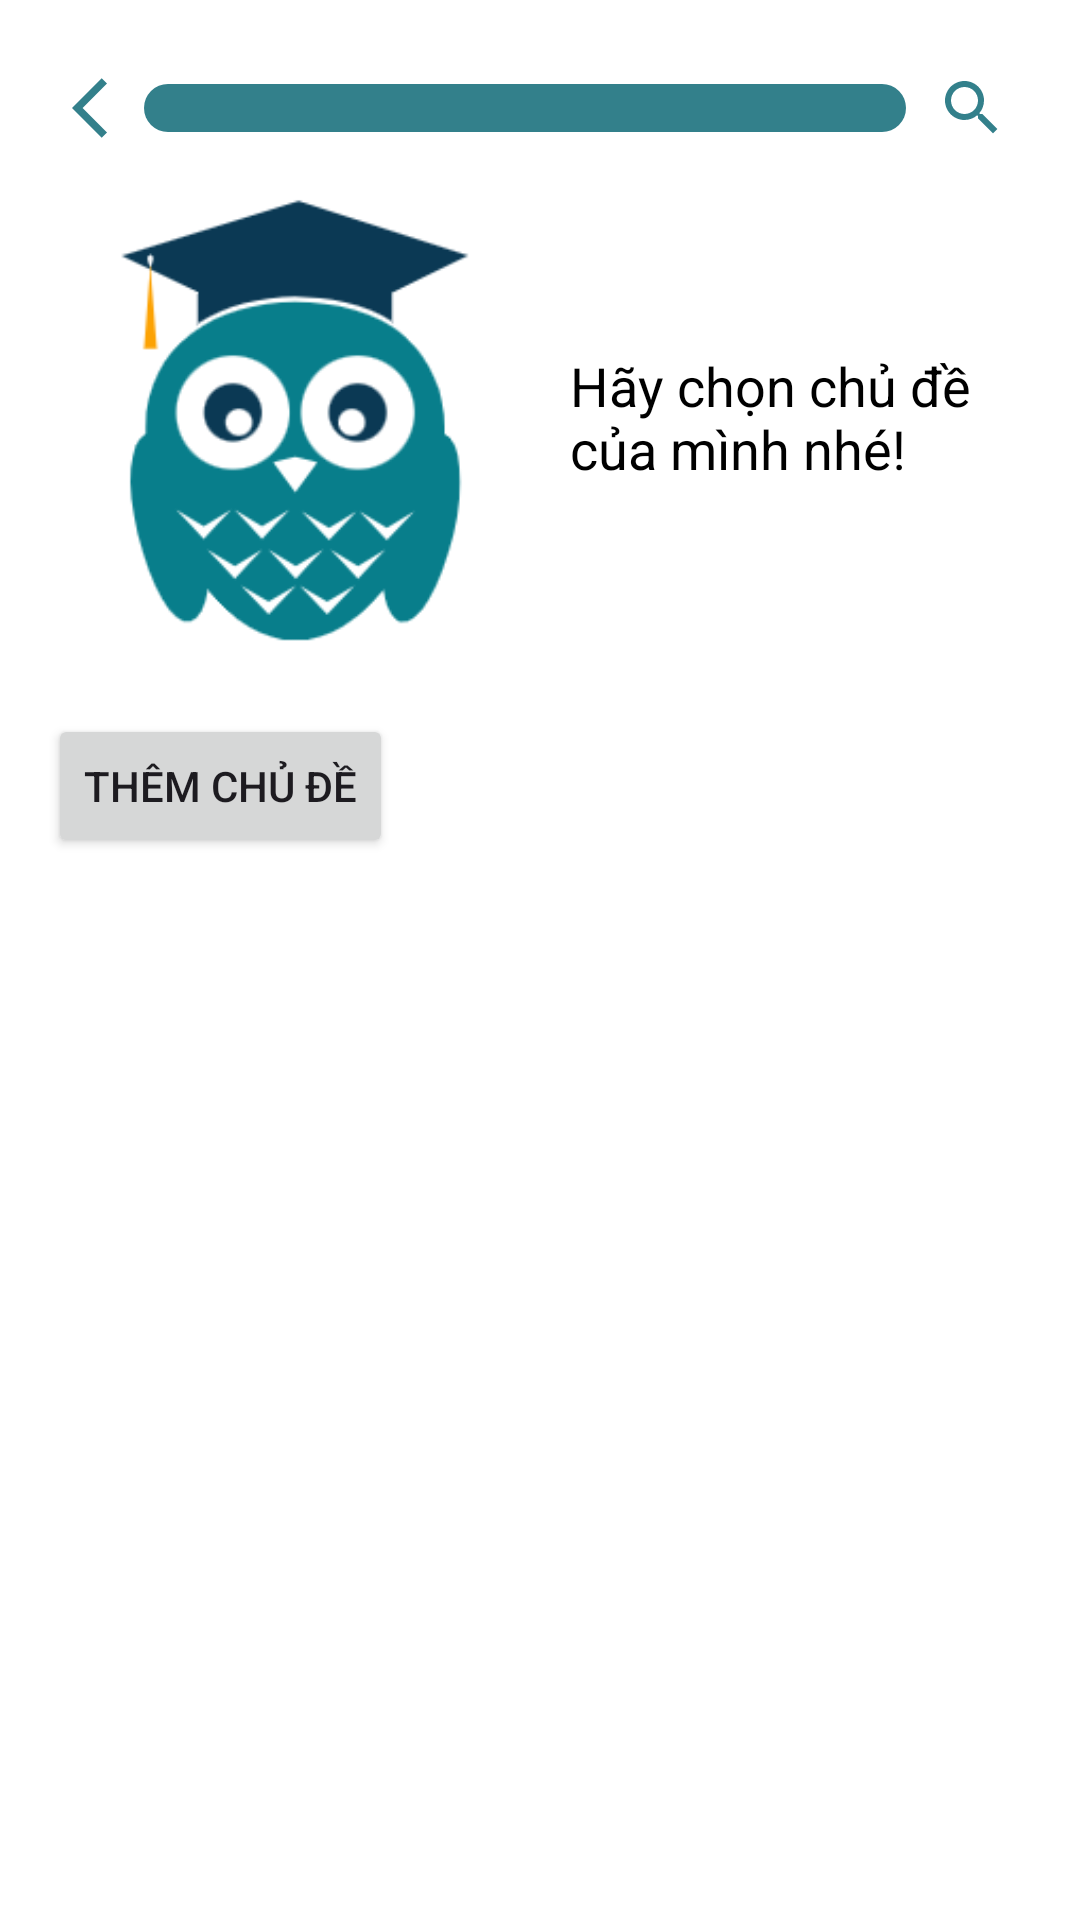

Where to tap for icons on this 1080w x 1920h app screen, as [x,y]:
Back: [89,108]
Search: [971,107]
